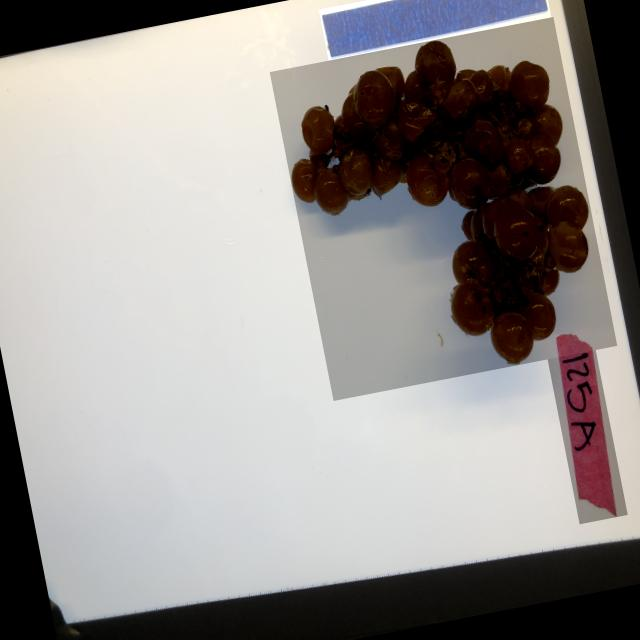grape_cluster: (268, 17, 616, 401)
index: (543, 329, 627, 525)
measure_label: (317, 0, 550, 60)
